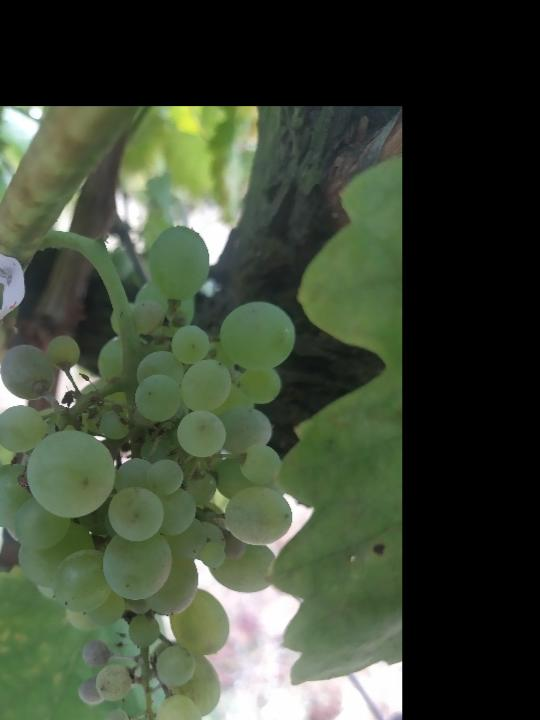grape: (0, 219, 300, 720)
